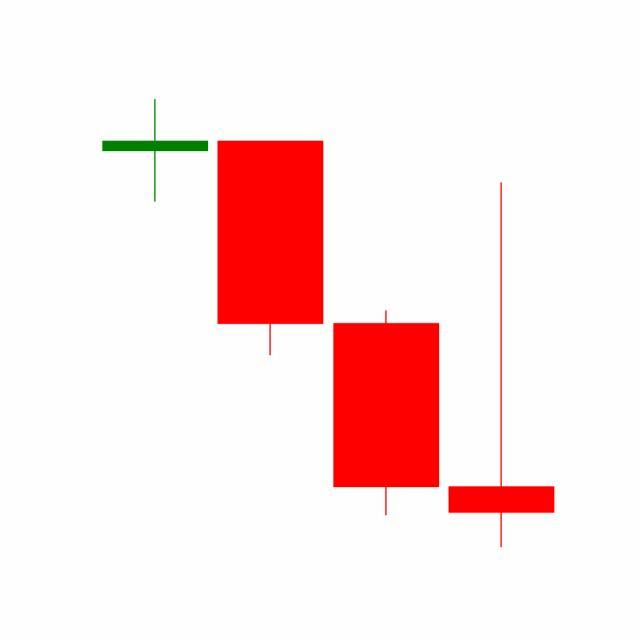Spinning Top: (444, 179, 560, 553)
